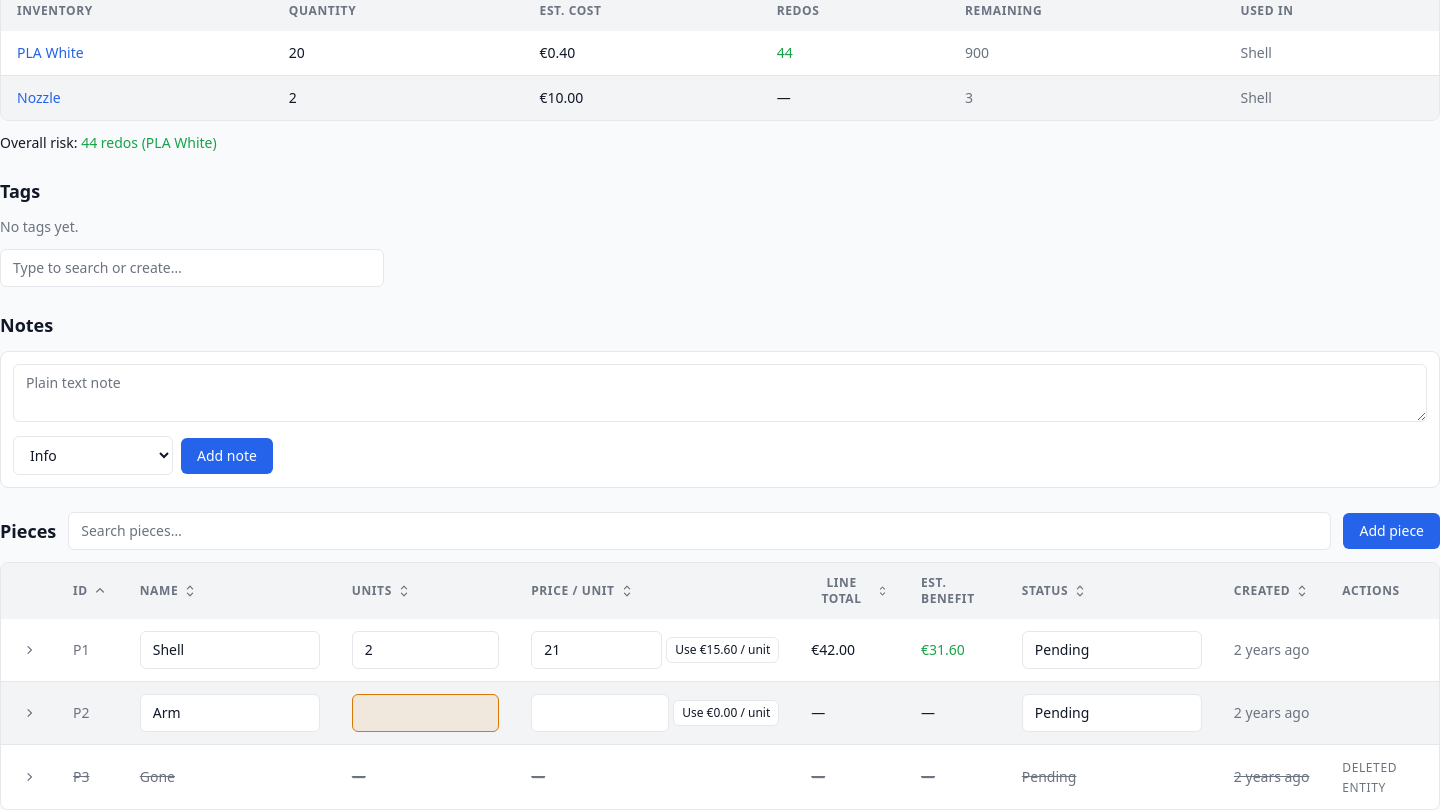
Test case: JobDetailPage › rejects a blank piece name
(page scrolled)
Click the button with test id "add-piece-button" at (1392, 531), box [1344, 513, 1439, 549]
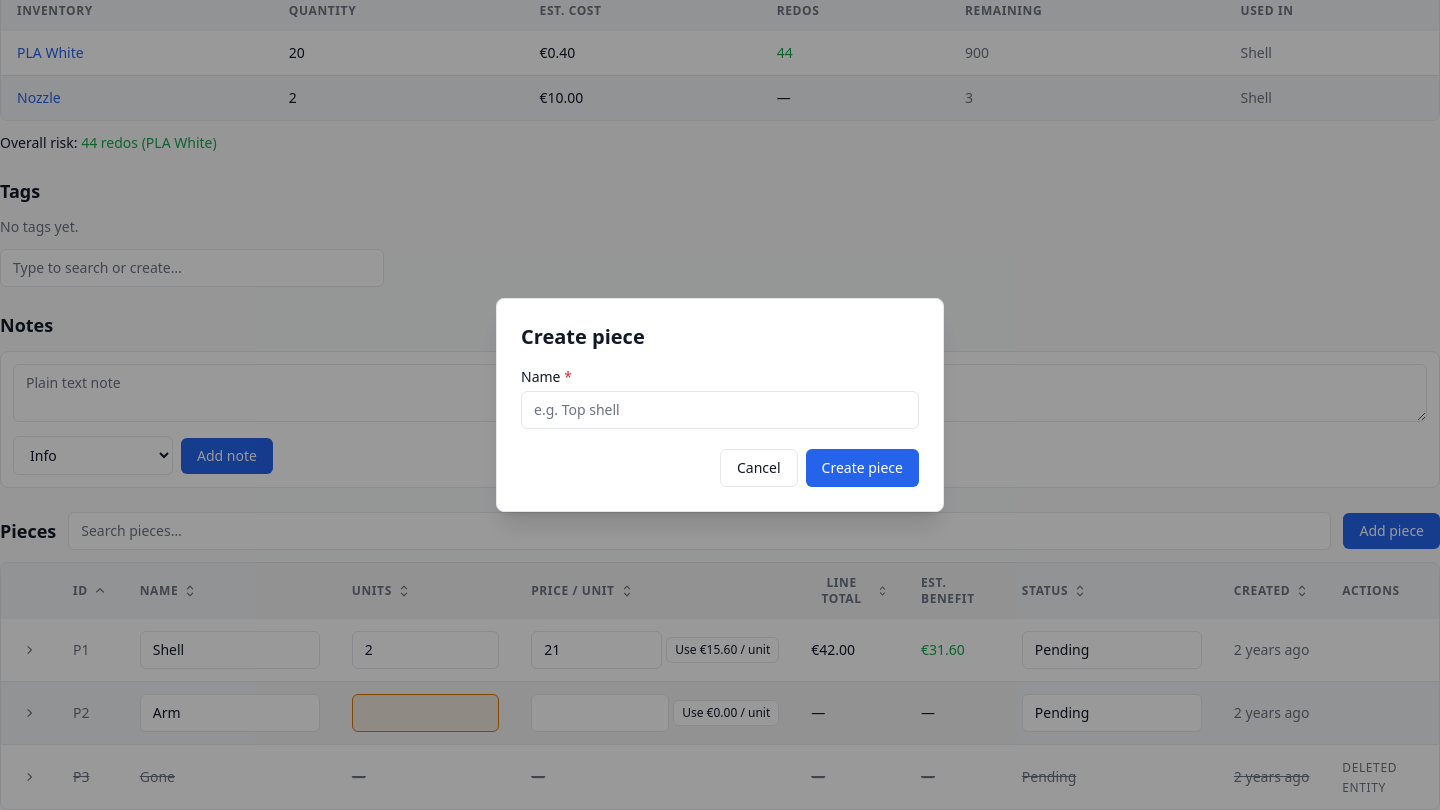
Click the button "Create piece" at (862, 468), box [806, 449, 919, 487]
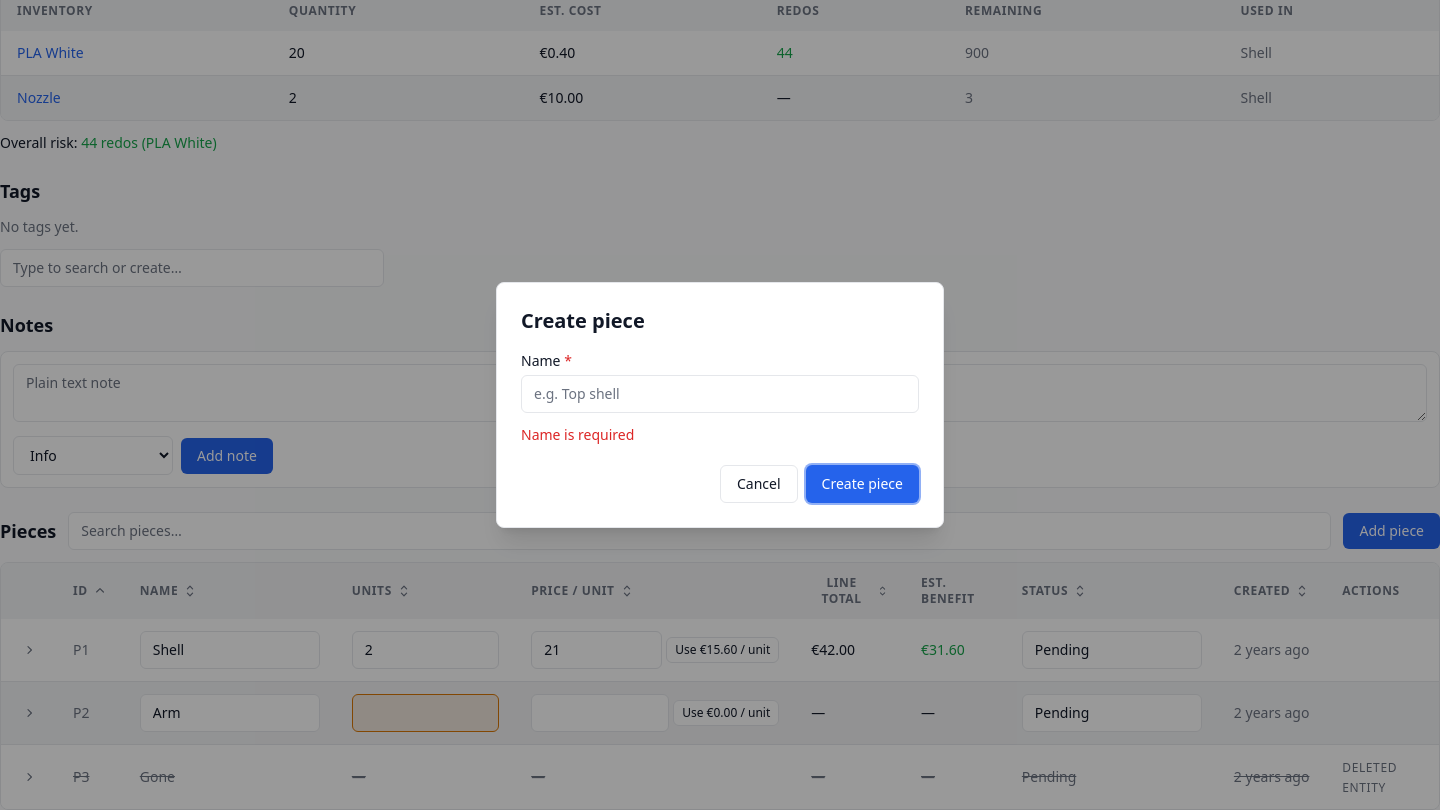
Expected: the message reads "Name is required", [521, 425, 634, 444]
